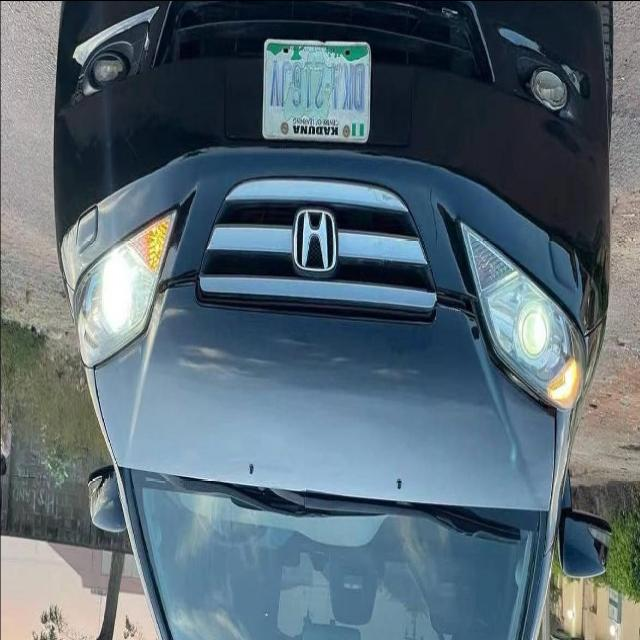Nigerian License Plate - vdataset benjamin-daria: (259, 30, 374, 145)
